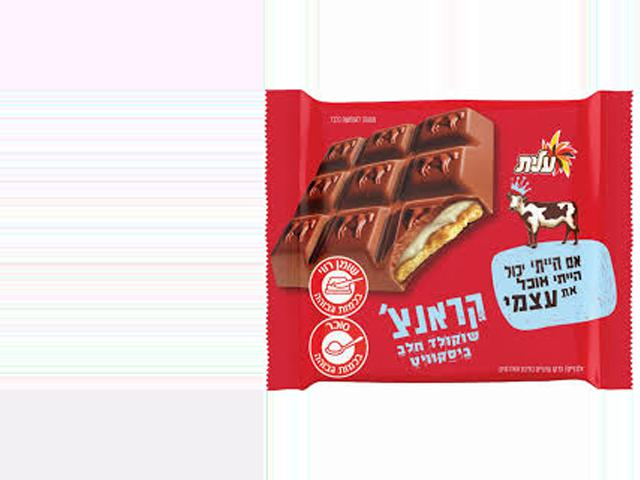chocolate: (269, 92, 619, 392)
